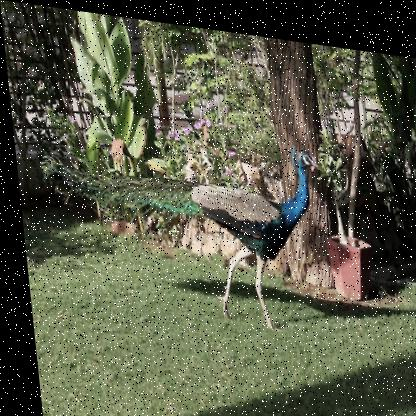Burung: (32, 108, 329, 333)
